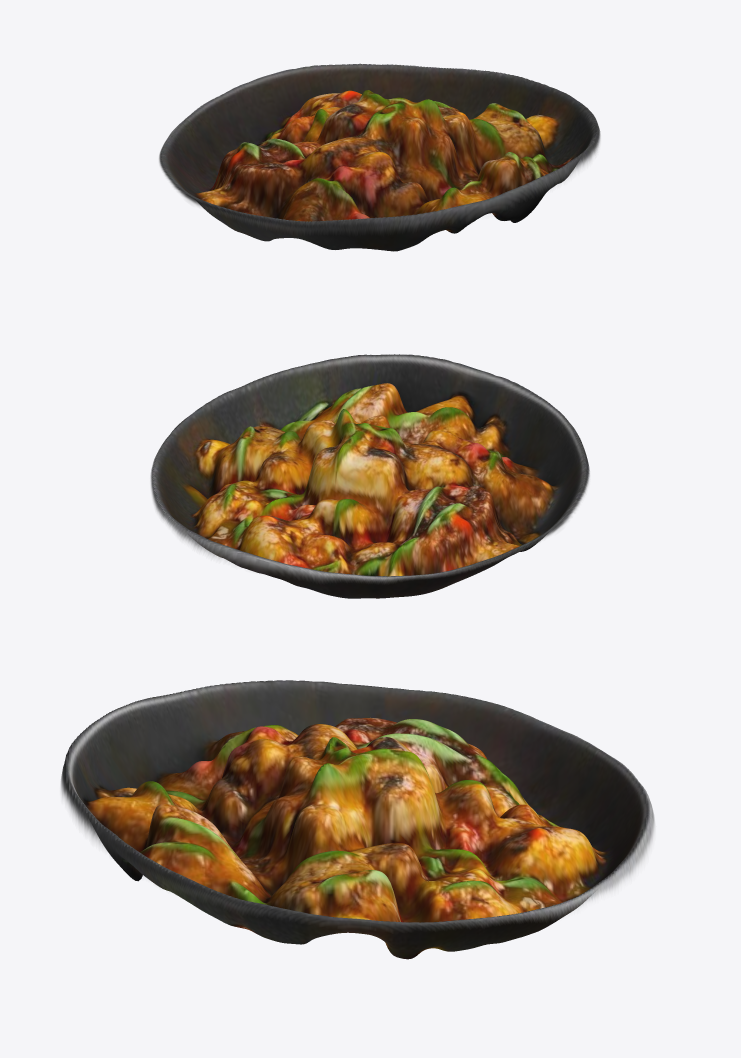
3 views of the same model, one above another, from view 1: azimuth 30°, elevation 25°; view 2: azimuth 150°, elevation 25°; view 3: azimuth 270°, elevation 25° (orthographic). The views are drawn at different scales.
Parts seen in each view (by area): view 1: Plane; view 2: Plane; view 3: Plane.
Part boxes in pixels (x1=…): Plane: x1=159, y1=63, x2=600, y2=251; Plane: x1=150, y1=354, x2=589, y2=598; Plane: x1=61, y1=680, x2=655, y2=959.
Size of the model in its own units: 1.98 by 0.4896 by 1.98.
Materials: 1 (1 with a texture image).
